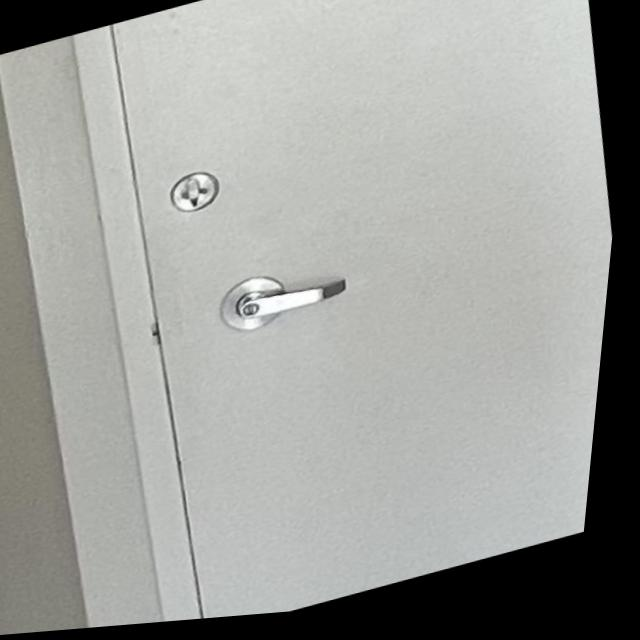door_handle: (210, 261, 382, 349)
